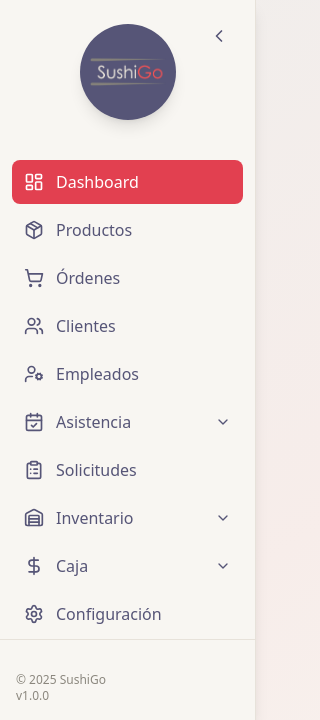
Test case: Sidebar — submenu toggle › expands submenu when button is clicked
Click the button "Asistencia" at (128,422), box left=12, top=400, right=243, bottom=444
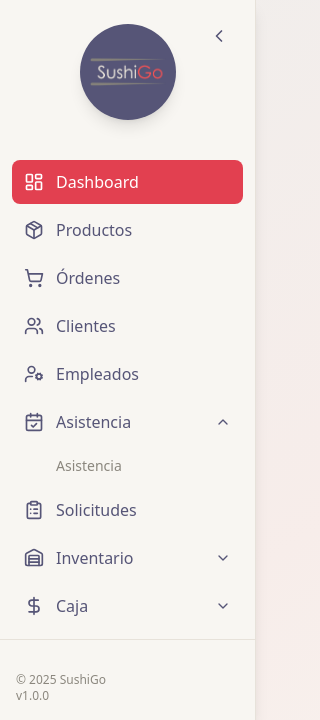
Now the link "Asistencia" is shown, box left=56, top=456, right=122, bottom=475
